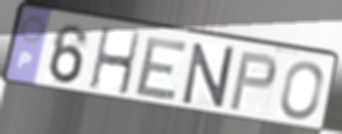6: (48, 22, 91, 86)
E: (132, 35, 191, 102)
H: (87, 25, 143, 98)
N: (180, 41, 237, 110)
O: (278, 60, 326, 122)
P: (226, 50, 279, 113)
